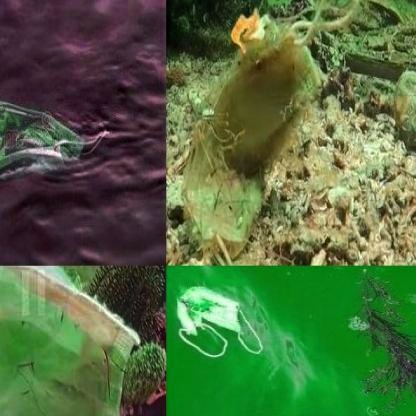Mask: (182, 0, 360, 265), (0, 266, 141, 415), (0, 88, 109, 186), (172, 285, 262, 358)
